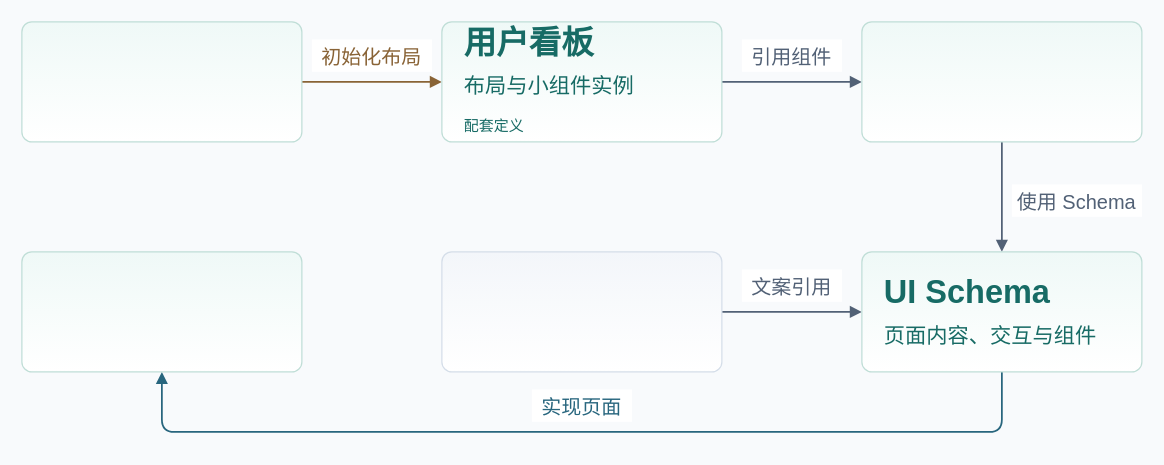
Image size: 1164x465. Some labels were removed from this diagram. Here are the shapes that lost their labels. From the top down, the box of each, then its label:
(21, 21, 302, 142): 用户看板模板 提供初始布局 配套定义
(861, 21, 1142, 142): 小组件定义 配置契约与 Schema 模板 配套定义
(21, 251, 302, 372): UI 模型 页面入口与实现方式
(441, 251, 722, 372): 国际化语言包 语言与文案资源 配套定义
